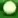white: (0, 0, 18, 18)
